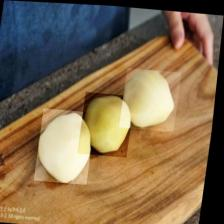Potato: (38, 108, 98, 184), (121, 66, 183, 130), (80, 91, 137, 156)
